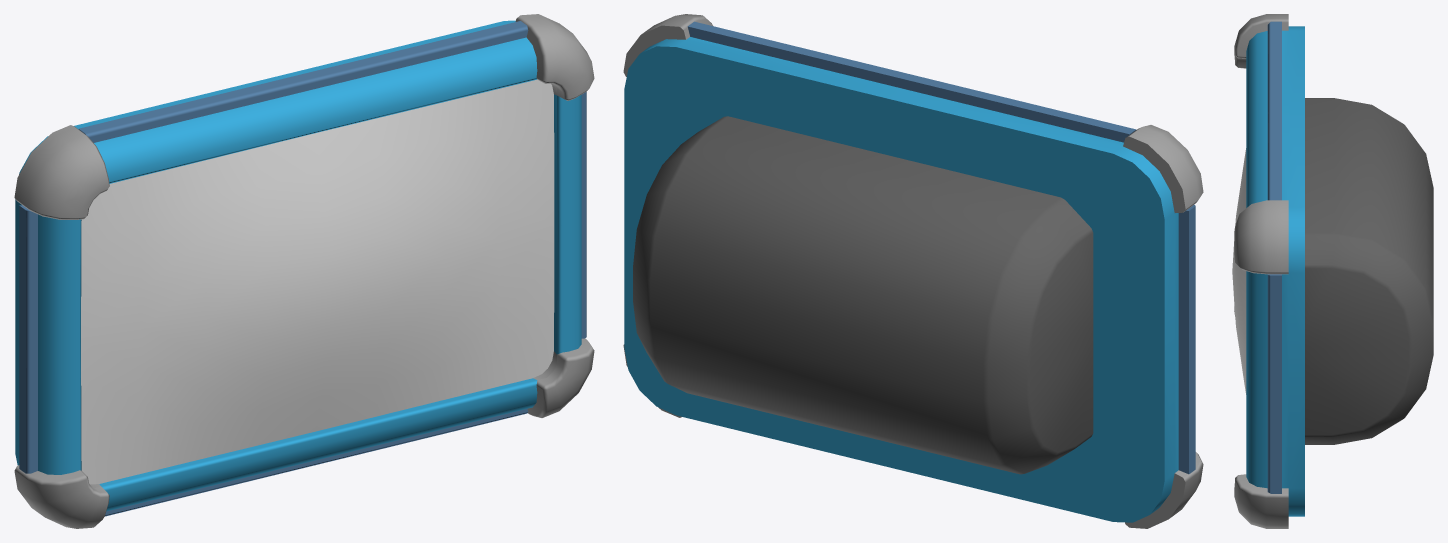
The model's file is Screen_Medium.fbx.
3 views of the same model, side by side, from view 1: azimuth 30°, elevation 25°; view 2: azimuth 150°, elevation 25°; view 3: azimuth 270°, elevation 25° (orthographic). The views are drawn at different scales.
Parts seen in each view (by area): view 1: Screen_Medium; view 2: Screen_Medium; view 3: Screen_Medium.
Boxes of the visible parts, x1=… form: Screen_Medium: x1=14, y1=14, x2=594, y2=528; Screen_Medium: x1=623, y1=14, x2=1203, y2=528; Screen_Medium: x1=1232, y1=14, x2=1433, y2=528.
Bounding box in the file's own units: 89.3 × 59.38 × 33.46.
